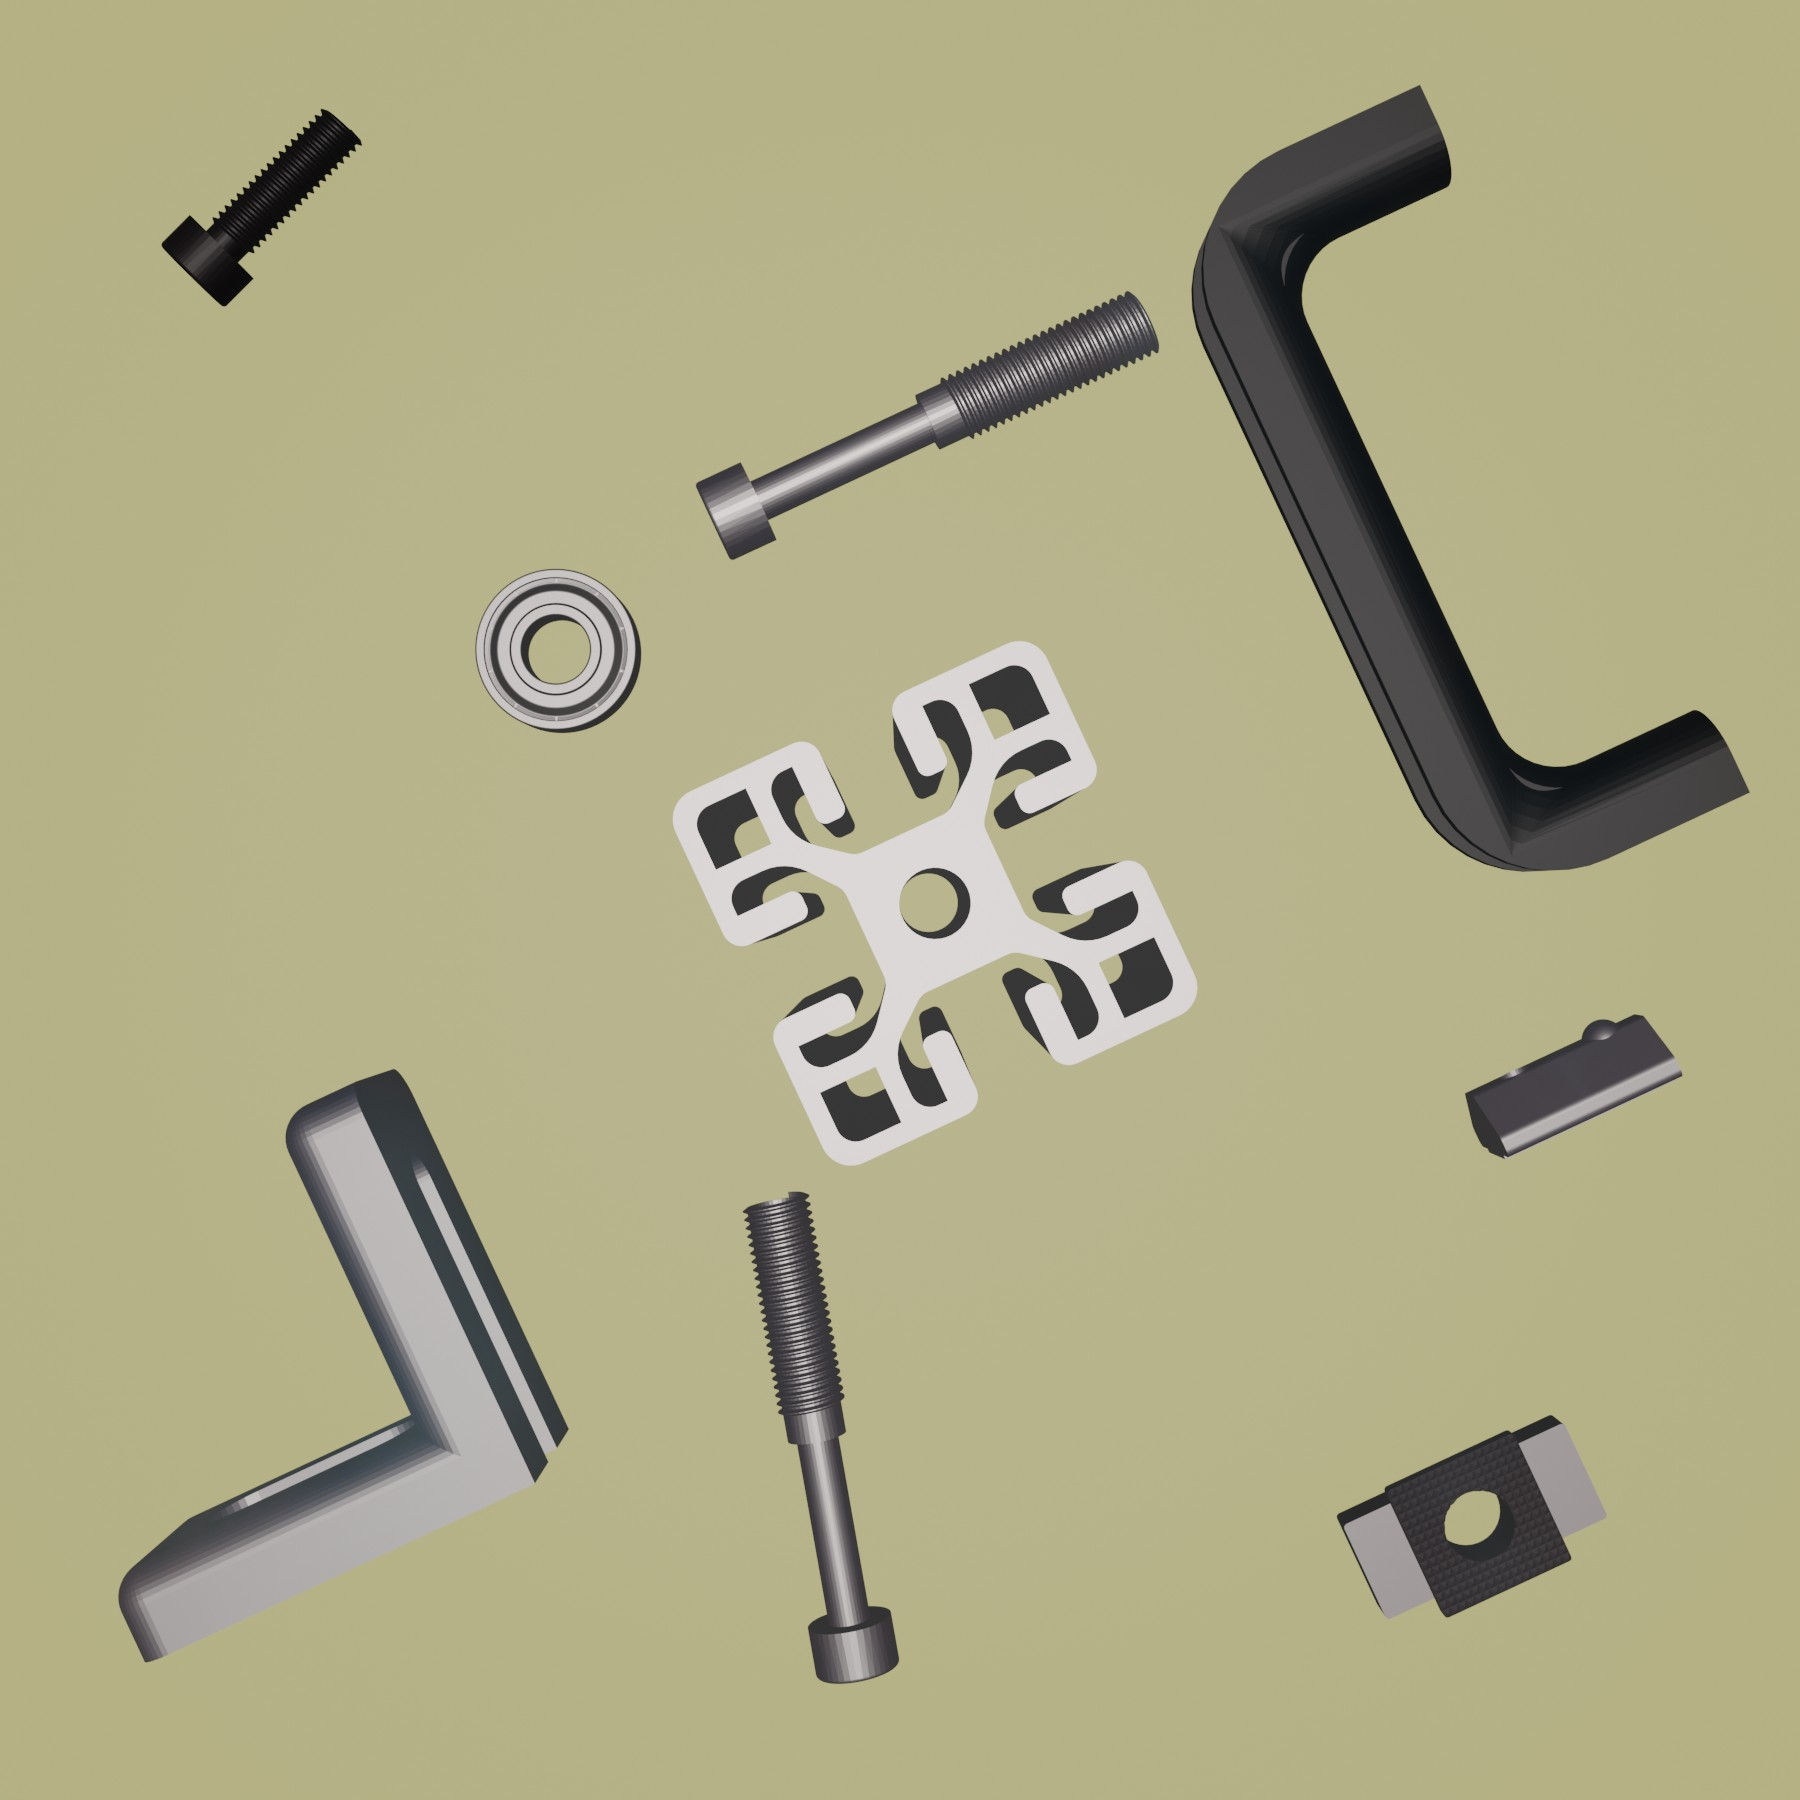Aluminium Extension: (669, 638, 1200, 1169)
Ball Bearing: (475, 565, 641, 735)
Multiwinkel: (114, 1068, 570, 1663)
Pull Handle: (1188, 81, 1751, 874)
Shoulder Socket Head Cap Screw: (692, 287, 1162, 562), (740, 1187, 902, 1686)
Socket Head Cap Screw: (158, 104, 363, 312)
T Nut Square: (1335, 1411, 1610, 1624)
T Spring Nut: (1465, 1009, 1685, 1162)
